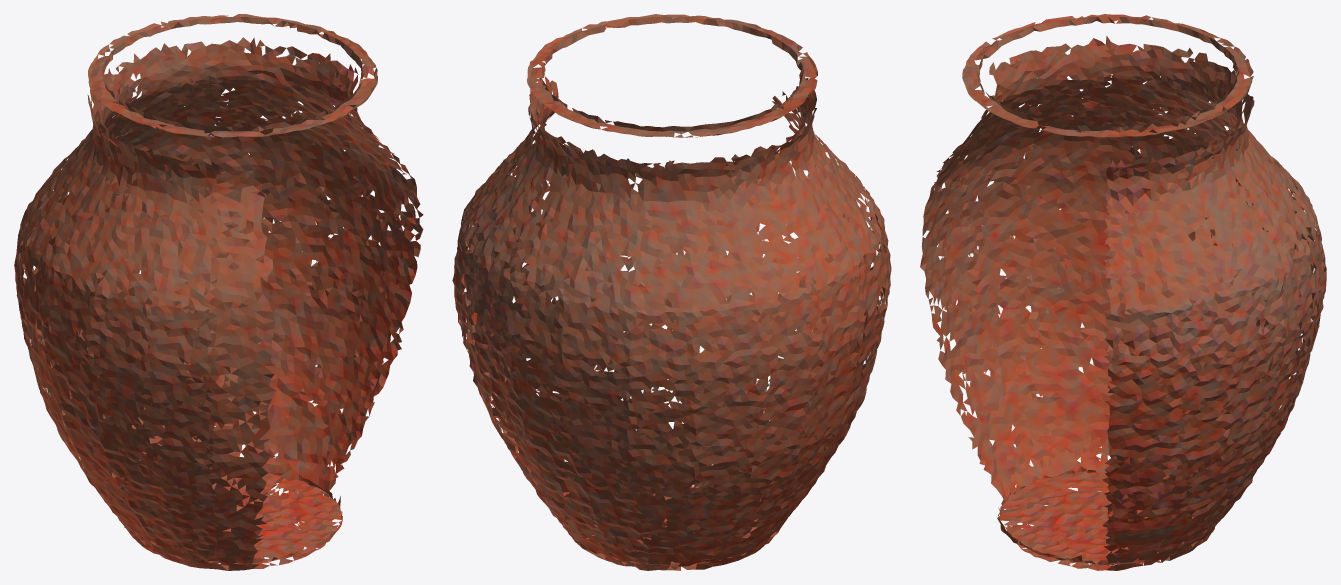
File: vase2_final100.obj
3 renders of one model, left to right at view 1: azimuth 30°, elevation 25°; view 2: azimuth 150°, elevation 25°; view 3: azimuth 270°, elevation 25°, orthographic.
Size of the model in its own units: 1.47 by 1.7 by 1.36.
